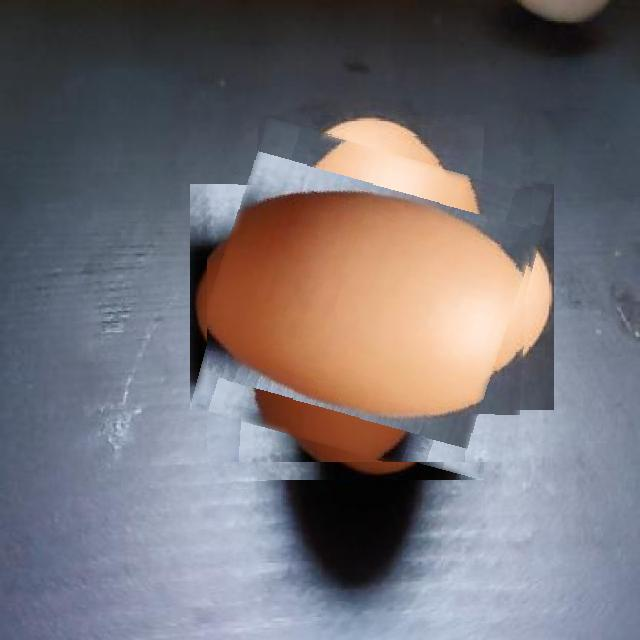biodegradable: (207, 133, 536, 462)
